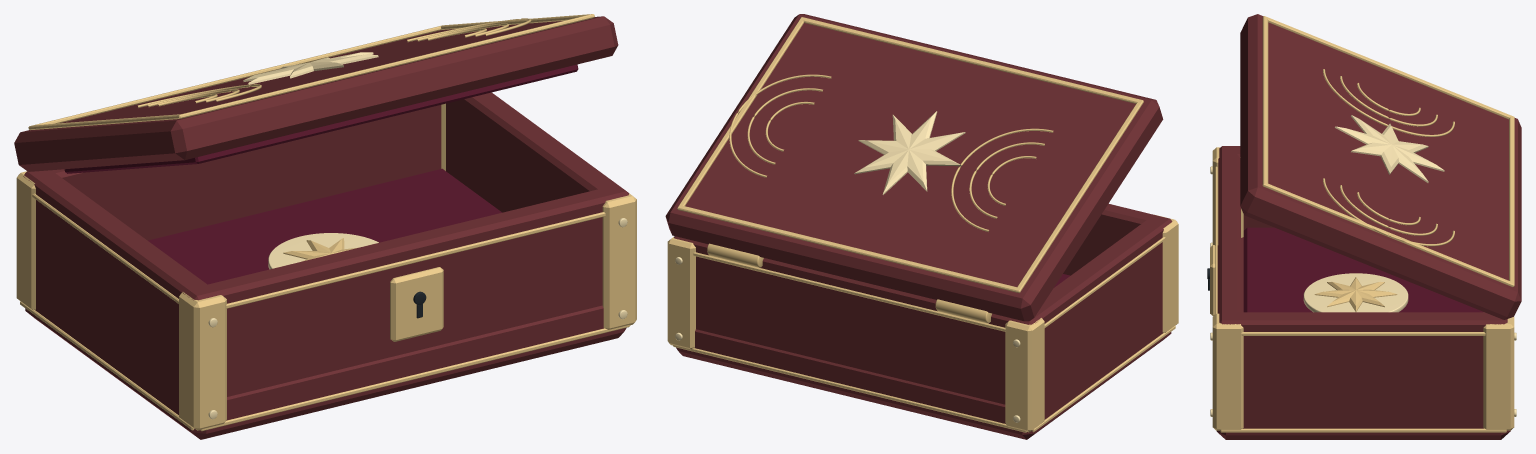
File: magician-box.glb
3 views of the same model, side by side, from view 1: azimuth 30°, elevation 25°; view 2: azimuth 150°, elevation 25°; view 3: azimuth 270°, elevation 25° (orthographic). The views are drawn at different scales.
Parts seen in each view (by area): view 1: Final Reveal; view 2: Final Reveal; view 3: Final Reveal.
Boxes of the visible parts, left/top/right/bottom form: Final Reveal: left=14, top=14, right=636, bottom=439; Final Reveal: left=665, top=14, right=1178, bottom=439; Final Reveal: left=1207, top=14, right=1521, bottom=439.
Size of the model in its own units: 0.227 by 0.1505 by 0.1678.
